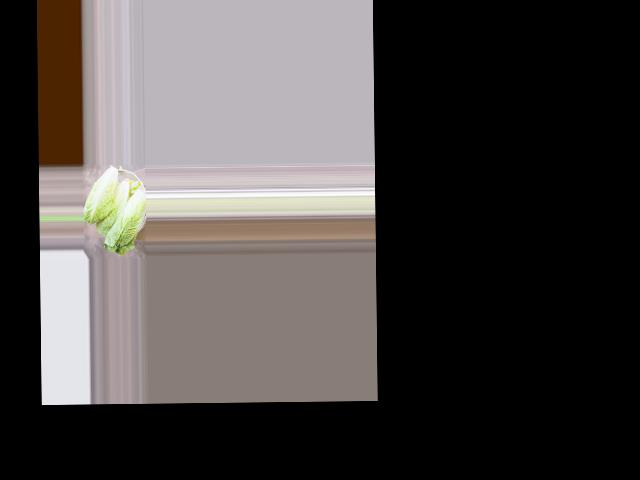lettuce: (102, 181, 147, 252)
